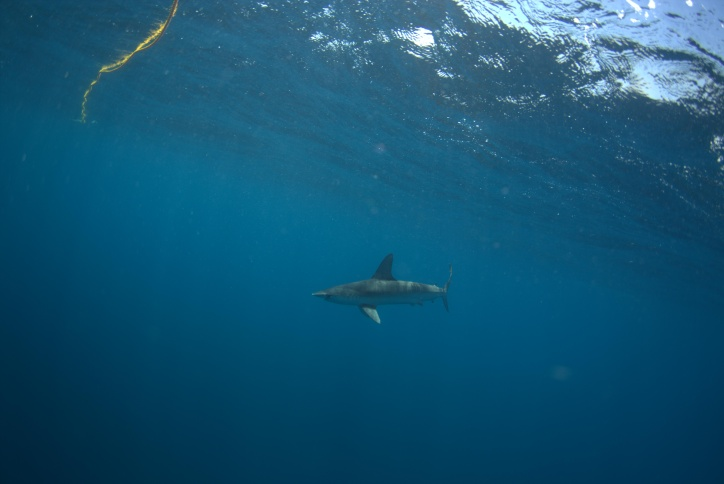Hammer: (293, 237, 486, 333)
